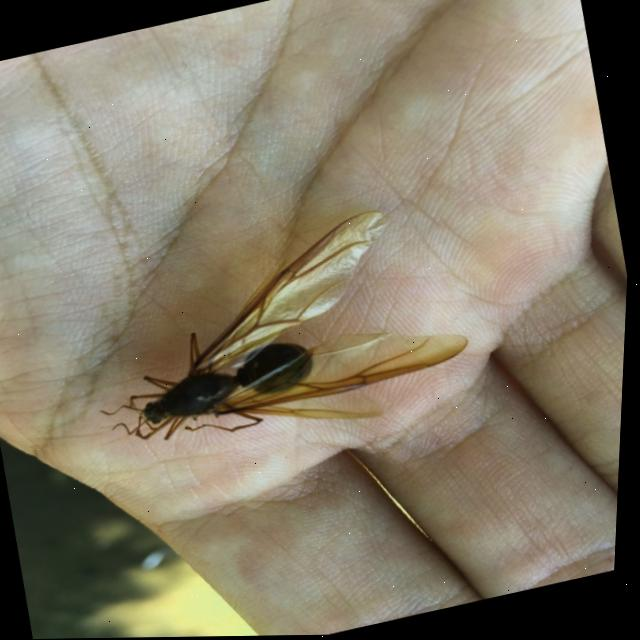Dead-Male-Alate: (72, 195, 488, 477)
